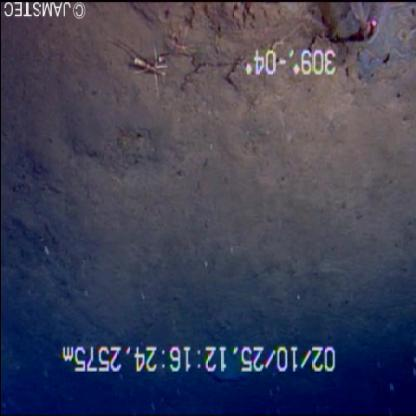Rác: (304, 1, 394, 54)
